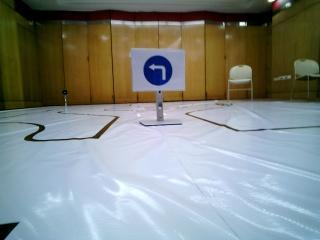left: (134, 55, 178, 89)
